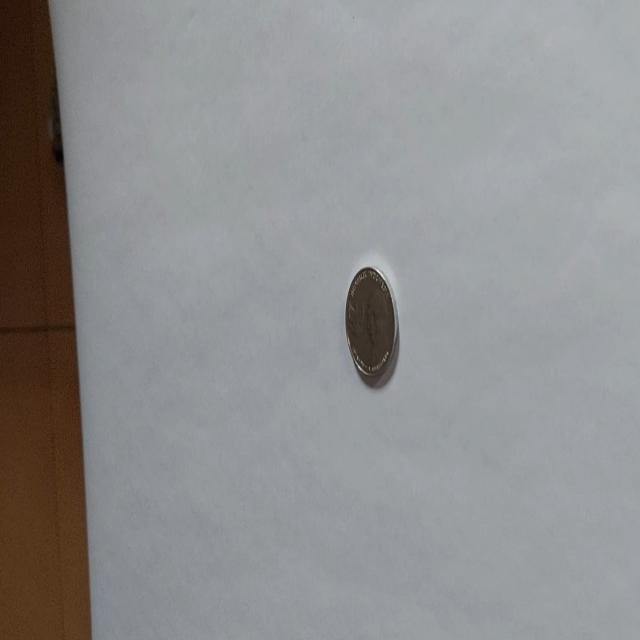lima ratus rupiah: (343, 264, 399, 387)
